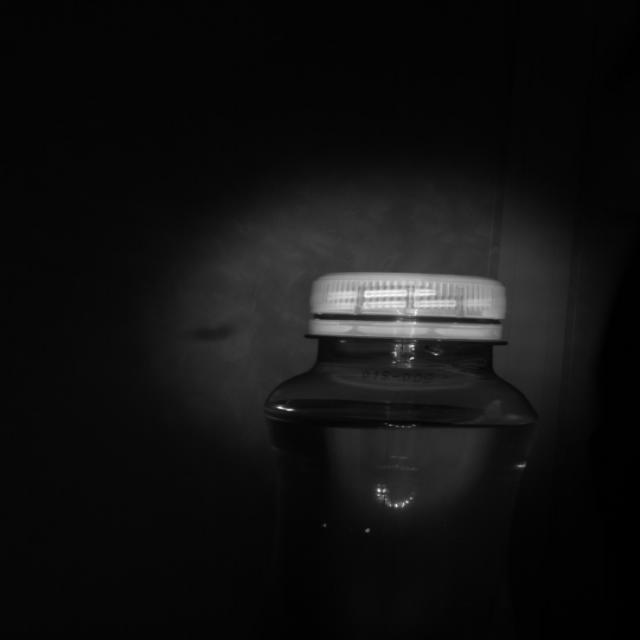Not Good: (314, 272, 505, 342)
